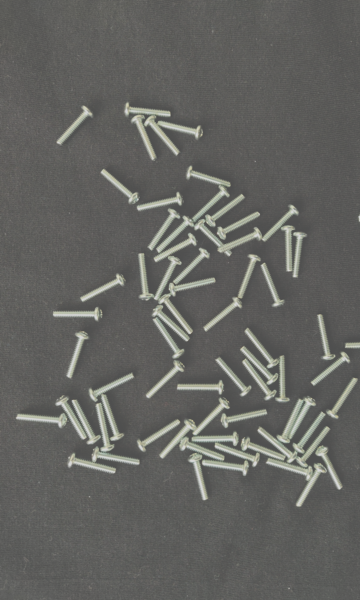longscrew: (213, 355, 253, 399), (143, 116, 184, 158), (145, 359, 186, 401), (192, 395, 232, 438), (56, 103, 95, 147), (239, 345, 280, 386), (257, 425, 299, 465), (100, 167, 143, 206), (240, 359, 278, 403), (136, 418, 183, 453), (155, 214, 195, 255), (159, 418, 197, 461), (158, 294, 196, 337), (243, 327, 281, 370), (293, 410, 329, 455), (194, 219, 234, 259), (151, 305, 192, 344), (191, 184, 230, 225), (55, 395, 89, 442), (262, 202, 300, 244), (88, 371, 136, 404), (152, 316, 188, 360), (296, 425, 332, 469), (129, 114, 161, 163), (79, 272, 128, 304), (203, 295, 243, 334), (310, 351, 352, 388), (295, 462, 328, 509), (147, 208, 182, 252), (326, 376, 360, 421), (205, 192, 246, 229), (71, 398, 102, 446), (173, 248, 211, 287), (153, 233, 199, 265), (216, 210, 263, 241), (315, 446, 346, 493), (153, 255, 182, 304), (288, 395, 317, 443), (217, 226, 264, 255), (213, 441, 262, 468), (100, 394, 126, 443), (266, 457, 315, 483), (67, 452, 120, 476), (240, 436, 287, 463), (66, 330, 91, 380), (179, 437, 227, 463), (278, 397, 304, 445), (261, 262, 287, 309), (184, 165, 234, 189), (188, 453, 212, 503), (91, 445, 142, 468), (238, 253, 262, 301), (136, 191, 186, 214), (156, 119, 205, 142), (94, 403, 116, 453), (168, 276, 218, 298), (315, 312, 337, 362), (220, 407, 270, 429), (15, 411, 69, 431), (136, 252, 156, 302), (202, 458, 252, 478), (121, 101, 175, 119), (52, 306, 105, 323), (274, 355, 292, 405), (176, 380, 228, 397), (282, 224, 298, 276), (189, 432, 241, 448), (293, 229, 309, 280), (343, 336, 360, 353), (357, 204, 360, 227)
